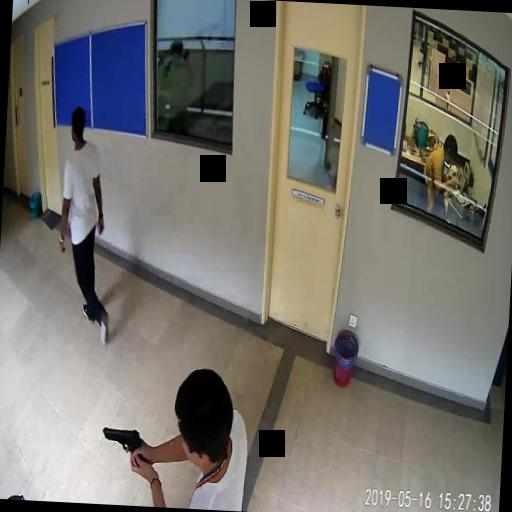Handgun: (100, 424, 145, 470)
